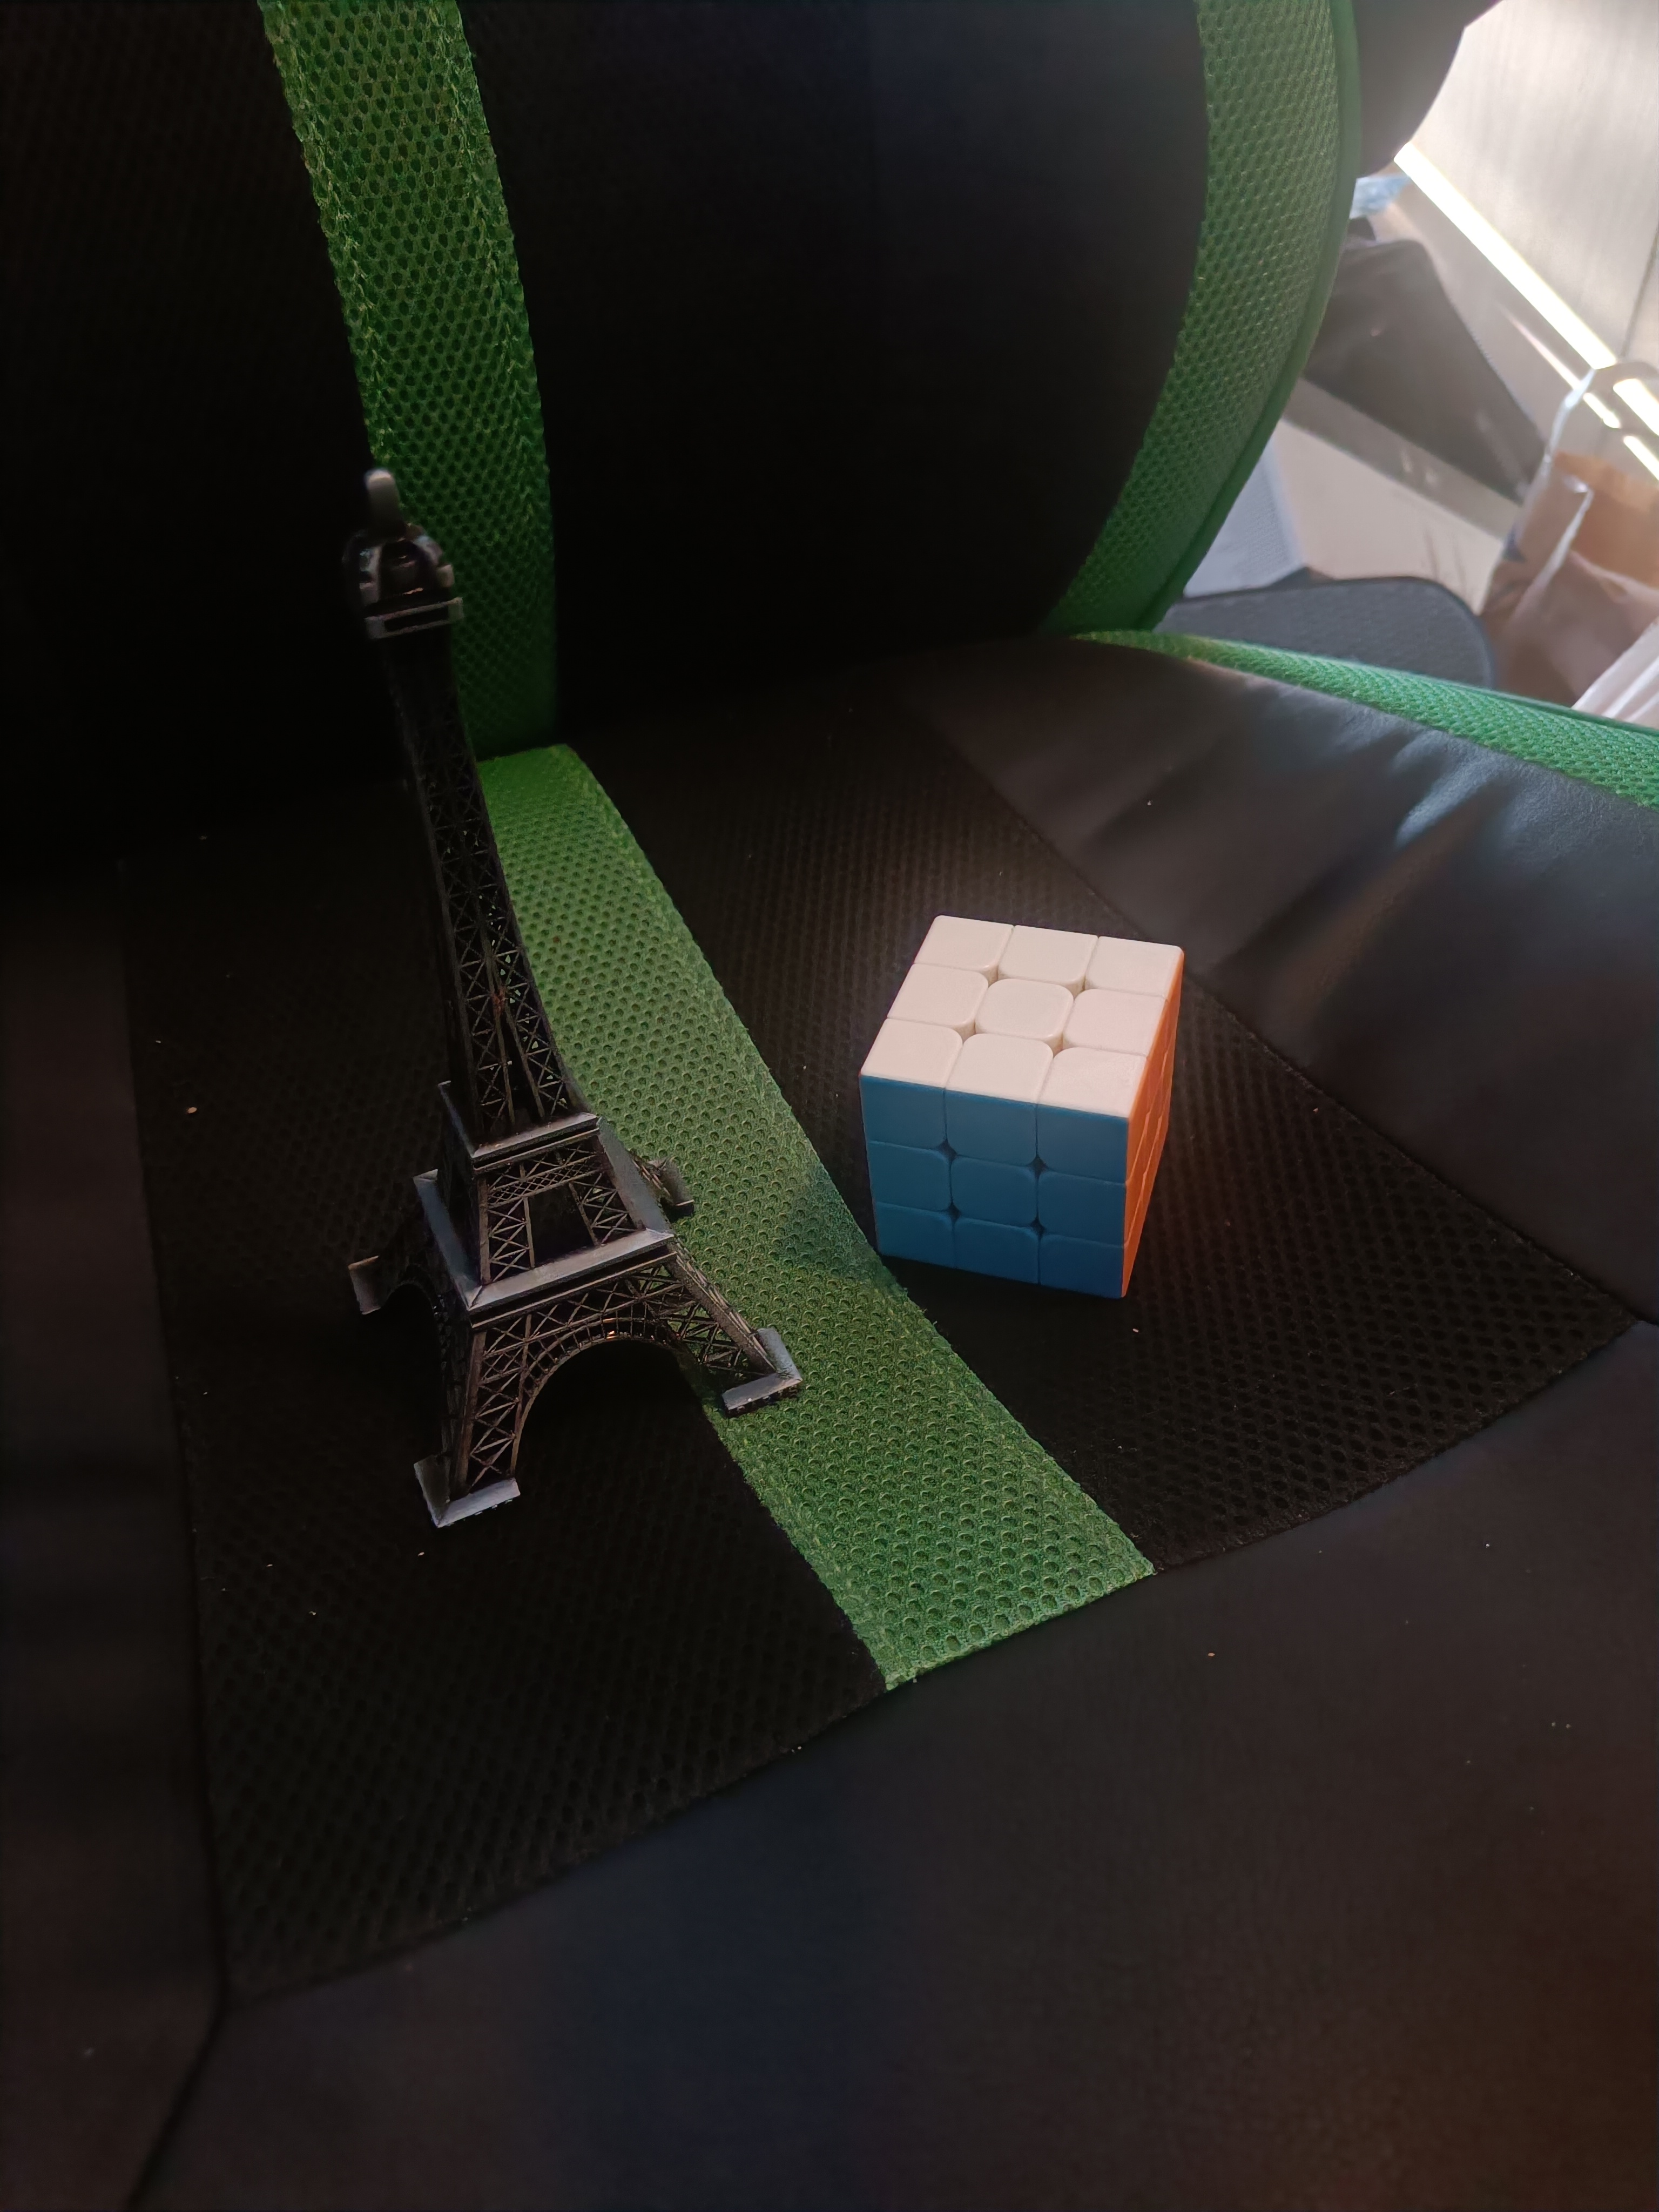Eiffel Tower: (307, 432, 812, 1547)
Rubiks Cube: (838, 890, 1202, 1312)
